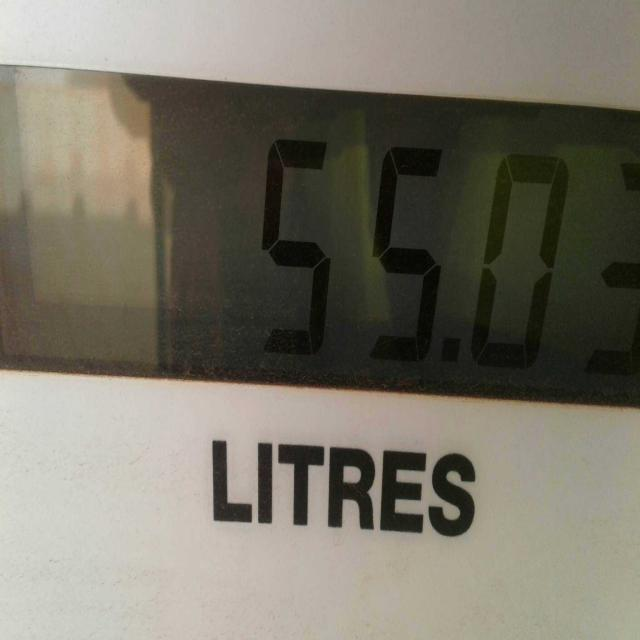.: (440, 331, 456, 360)
0: (469, 148, 561, 373)
5: (262, 145, 334, 354), (378, 149, 440, 358)
